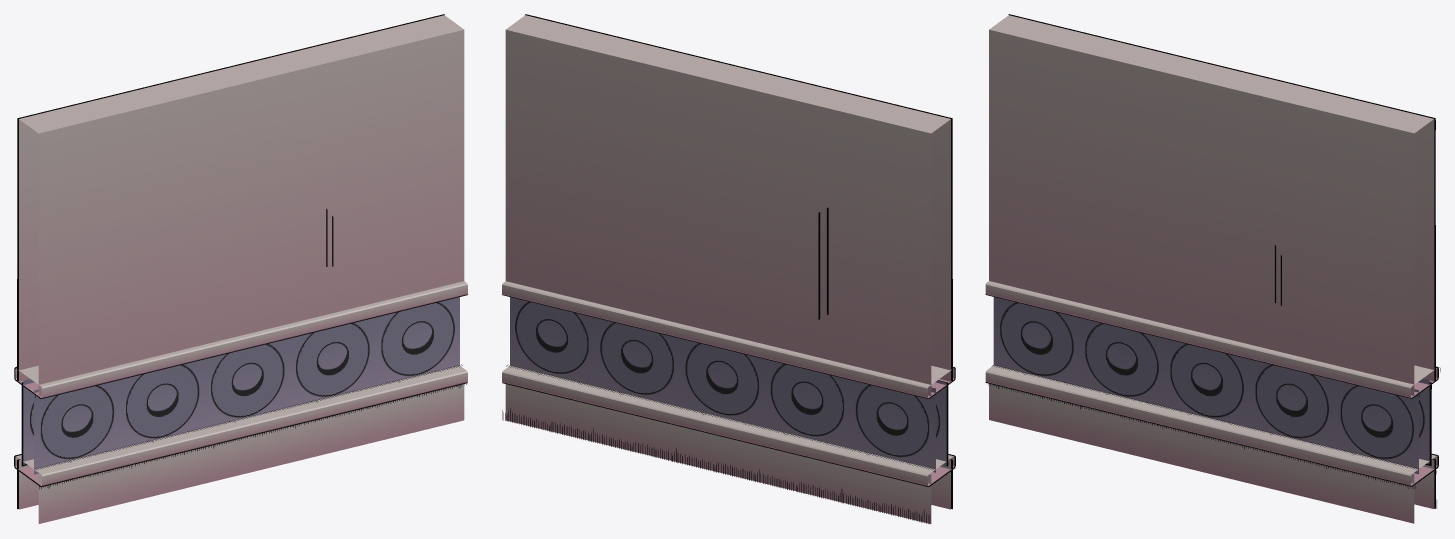
The model's file is Wall_01.glb.
The picture shows the model from 3 angles, left to right: view 1: azimuth 30°, elevation 25°; view 2: azimuth 150°, elevation 25°; view 3: azimuth 330°, elevation 25°; orthographic projection.
Visible parts, largest first — view 1: Wall_01; view 2: Wall_01; view 3: Wall_01.
Part boxes in pixels (left/top/right/bottom): Wall_01: left=14, top=14, right=467, bottom=523; Wall_01: left=502, top=14, right=955, bottom=523; Wall_01: left=985, top=14, right=1440, bottom=523.
Bounding box in the file's own units: 4.03 × 3.51 × 0.4611.
Materials: 3 (2 with a texture image).
